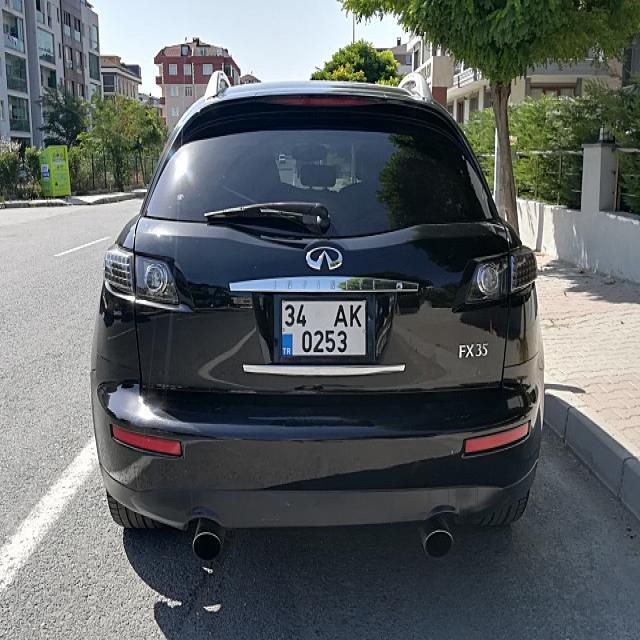plate: (275, 294, 375, 361)
